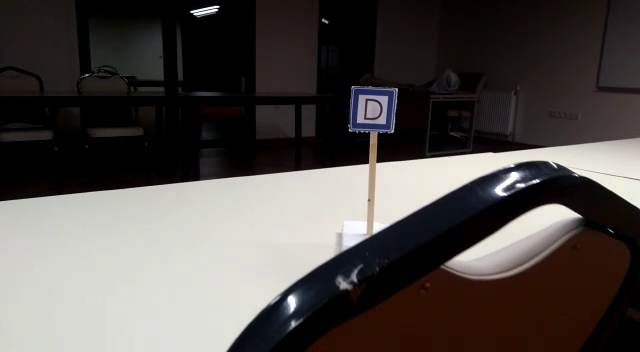durak: (348, 86, 398, 131)
